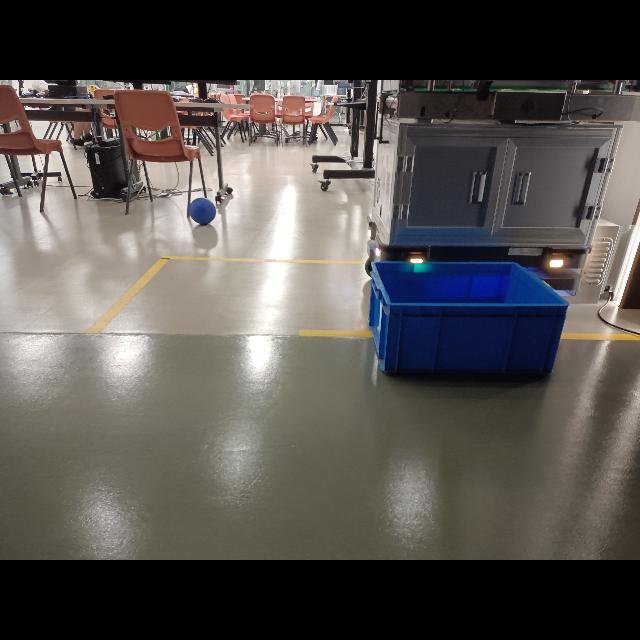B: (188, 198, 216, 228)
